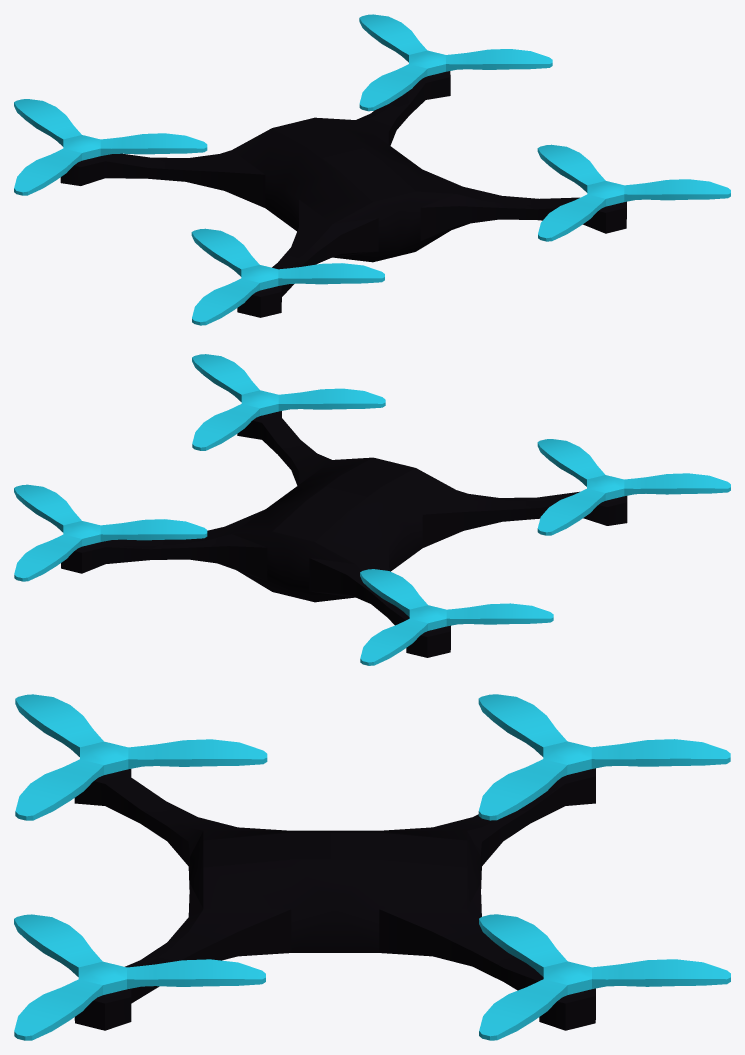
The model's file is Dronadsadasda.obj.
The picture shows the model from 3 angles, top to bottom: view 1: azimuth 30°, elevation 25°; view 2: azimuth 150°, elevation 25°; view 3: azimuth 270°, elevation 25°; orthographic projection. The views are drawn at different scales.
Visible parts, largest first — view 1: Box001, Cylinder002, Cylinder004, Cylinder003, Cylinder001; view 2: Box001, Cylinder001, Cylinder004, Cylinder002, Cylinder003; view 3: Box001, Cylinder003, Cylinder001, Cylinder004, Cylinder002.
Part boxes in pixels (left/top/right/bottom): Box001: left=60, top=71, right=626, bottom=317; Cylinder002: left=359, top=14, right=552, bottom=111; Cylinder004: left=14, top=99, right=207, bottom=195; Cylinder003: left=191, top=228, right=384, bottom=325; Cylinder001: left=537, top=144, right=730, bottom=241; Box001: left=61, top=411, right=627, bottom=657; Cylinder001: left=192, top=354, right=385, bottom=450; Cylinder004: left=360, top=569, right=553, bottom=665; Cylinder002: left=14, top=484, right=207, bottom=581; Cylinder003: left=537, top=439, right=730, bottom=535; Box001: left=74, top=768, right=595, bottom=1030; Cylinder003: left=15, top=694, right=267, bottom=820; Cylinder001: left=14, top=914, right=265, bottom=1040; Cylinder004: left=478, top=694, right=730, bottom=820; Cylinder002: left=479, top=914, right=730, bottom=1040.
Bounding box in the file's own units: 221 × 27.59 × 196.
